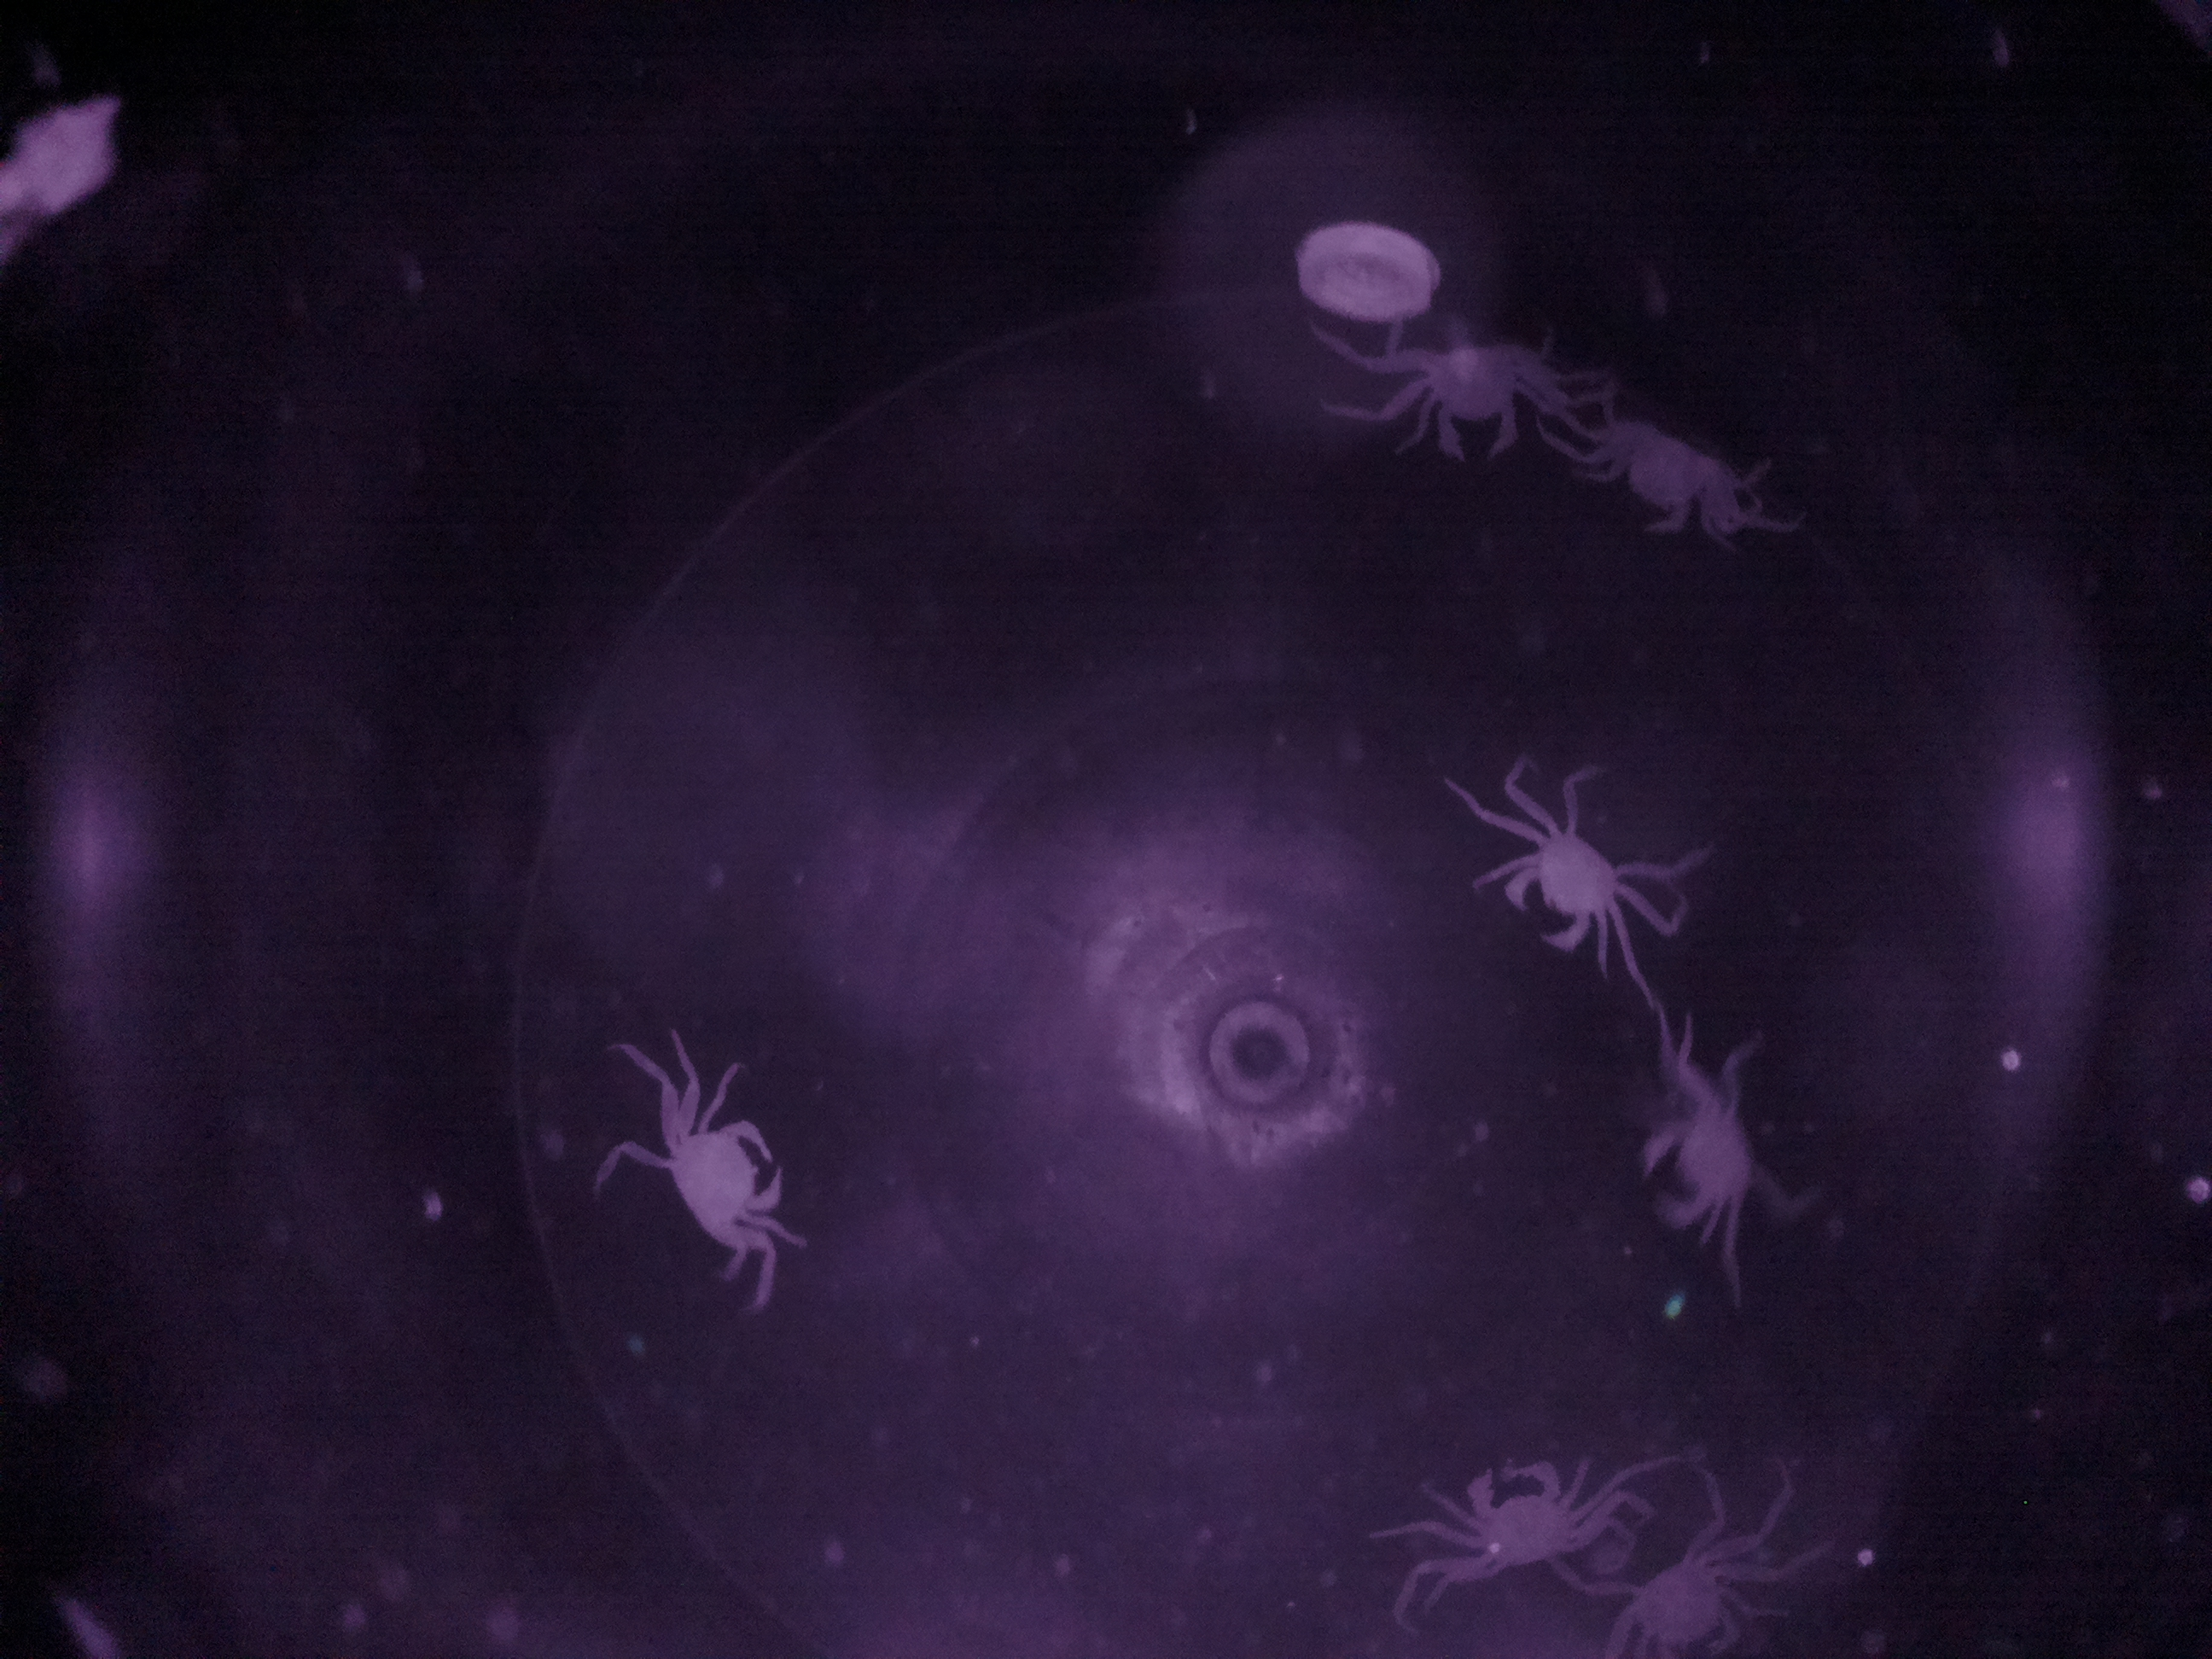Crab: (1622, 1037, 1791, 1284), (1463, 765, 1648, 981), (627, 1107, 808, 1281), (1383, 312, 1548, 490), (1420, 1432, 1595, 1596)
